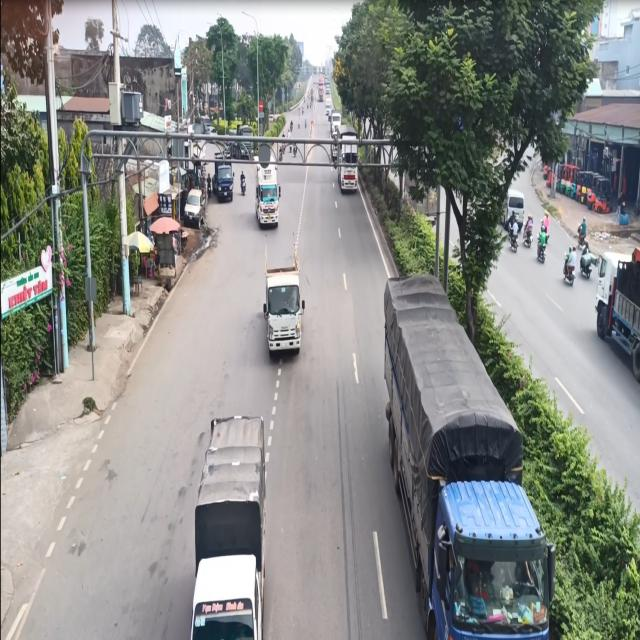motor: (238, 168, 246, 194)
truck: (376, 274, 556, 640), (183, 410, 276, 640), (259, 231, 309, 361), (251, 159, 283, 231)
